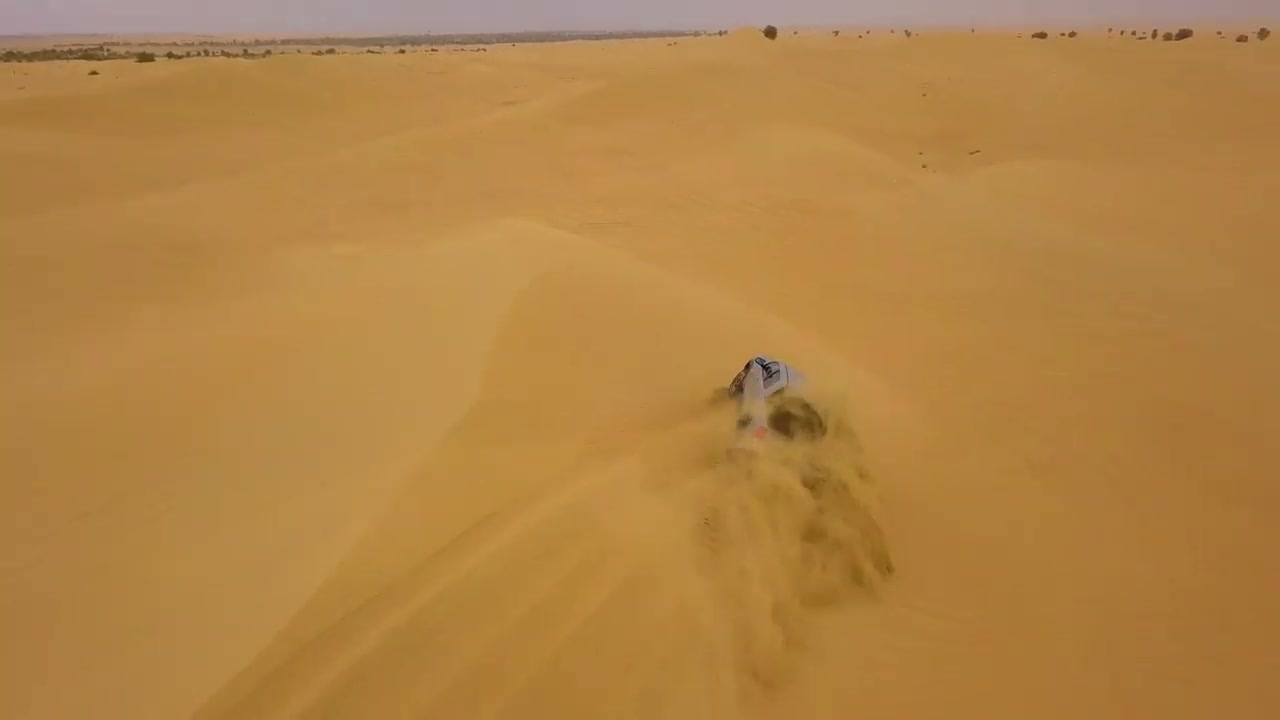vehicle_track: (235, 376, 733, 719), (386, 478, 777, 719)
